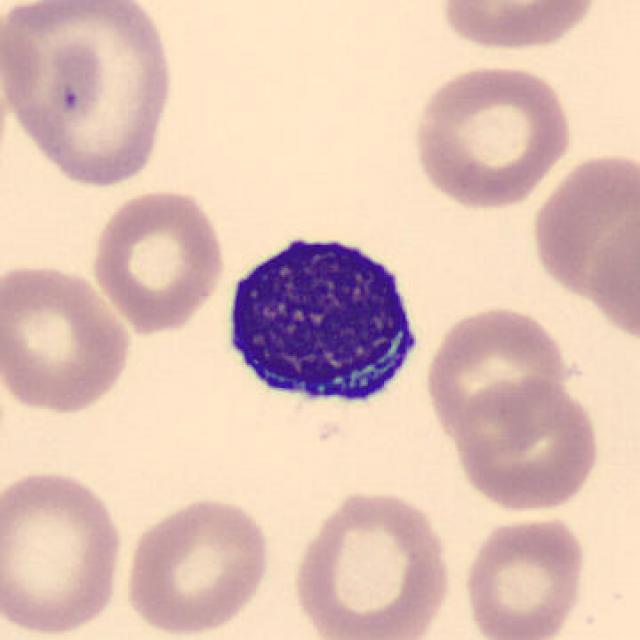Lymphocyte: (213, 218, 432, 418)
RBC: (0, 0, 181, 192), (286, 485, 457, 638), (407, 60, 578, 212), (119, 492, 274, 636), (0, 466, 128, 638), (420, 302, 574, 444), (0, 257, 135, 418), (450, 374, 604, 515), (87, 185, 229, 335), (526, 146, 638, 314), (460, 509, 588, 640), (436, 0, 602, 55)
